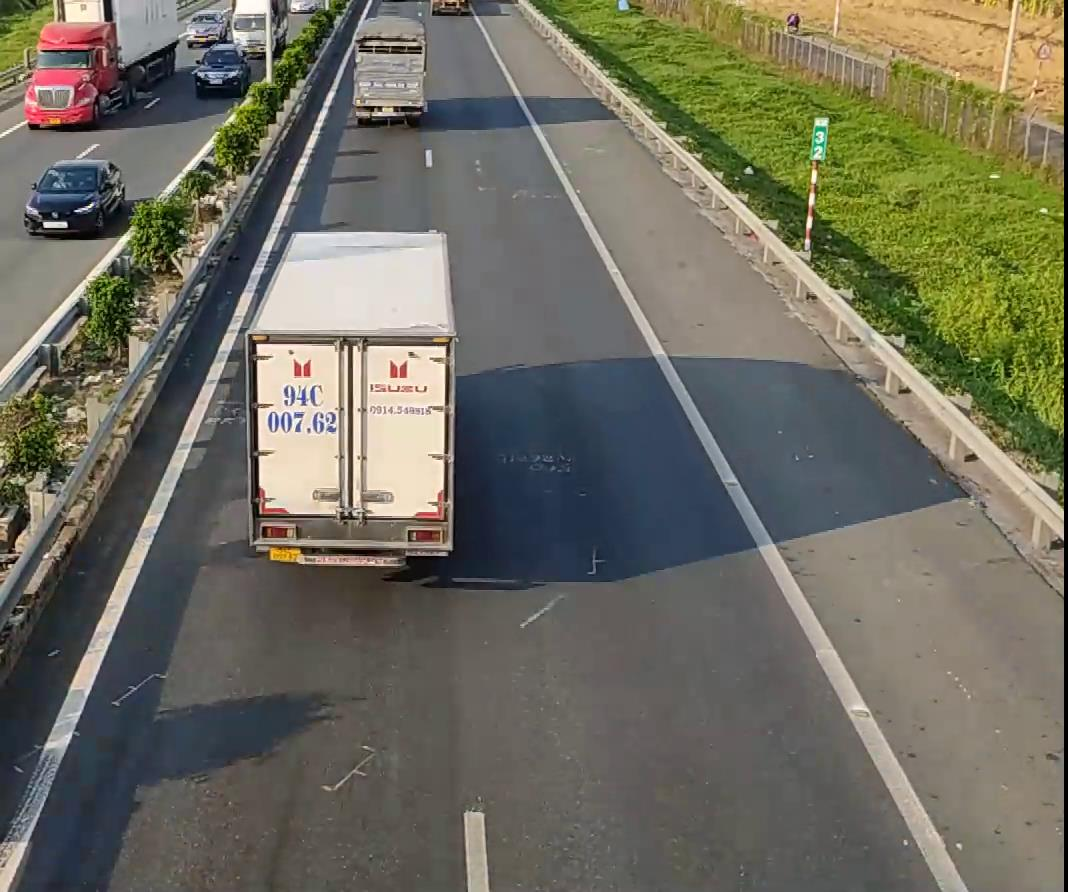car: (22, 156, 126, 236)
container: (22, 0, 183, 125)
truck: (242, 224, 452, 571), (350, 4, 429, 125)
